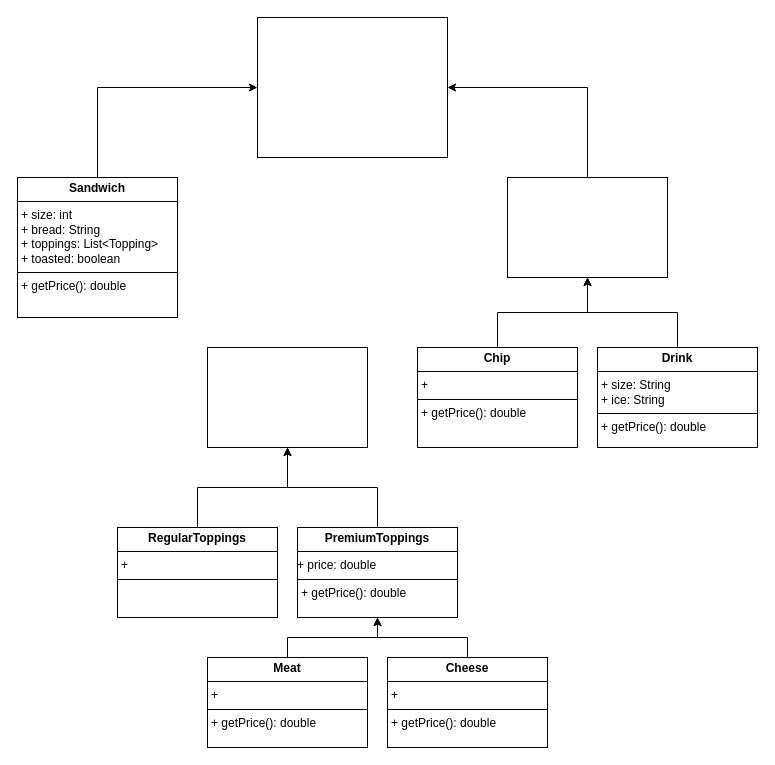
The diagram is 775 pixels wide and 765 high, and some of its shapes have lost their labels. Each missing label, with the centre of its shape:
"<<Interface>> Orderable + field1: Type + field2: Type + getPrice(): double" goes at (x=352, y=87).
"ExtraProduct + name: String + price: double + getPrice(): double" goes at (x=587, y=227).
"Toppings + name: String + extra: boolean" goes at (x=287, y=397).
